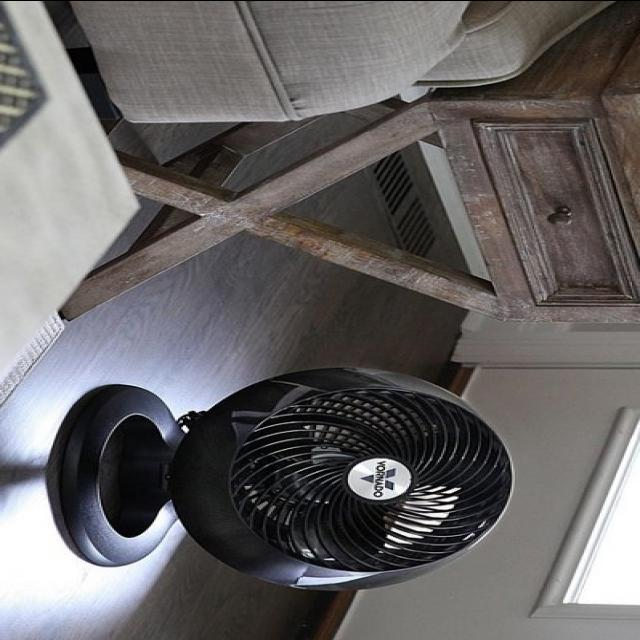fan: (41, 369, 517, 592)
